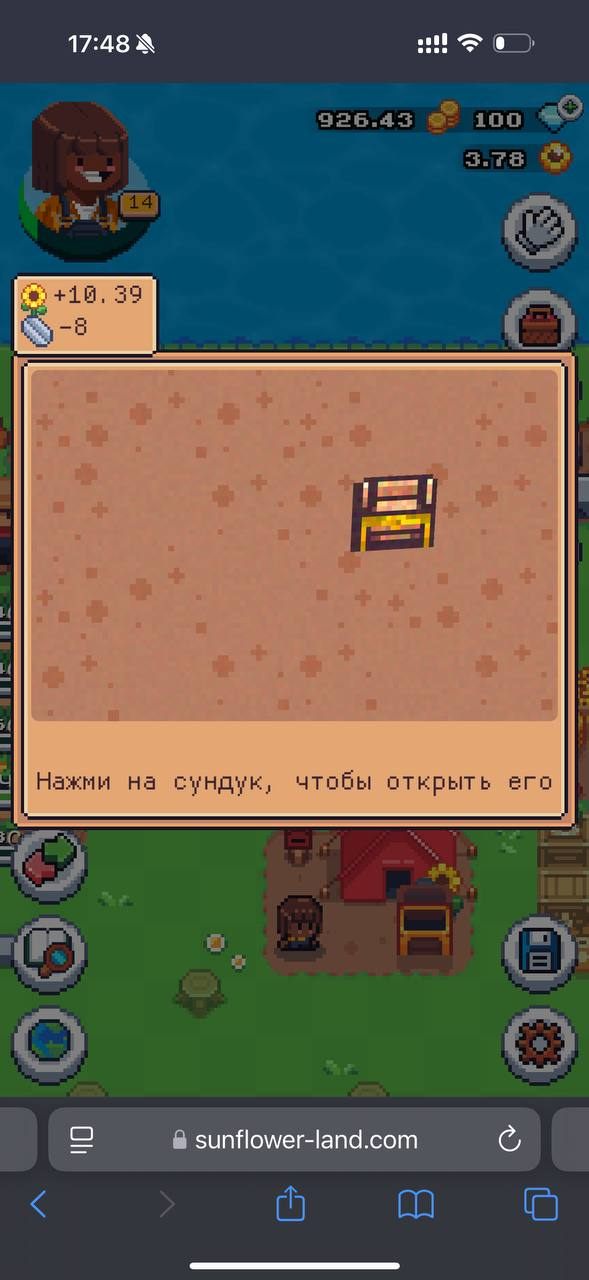capcha_chest: (348, 473, 438, 554)
